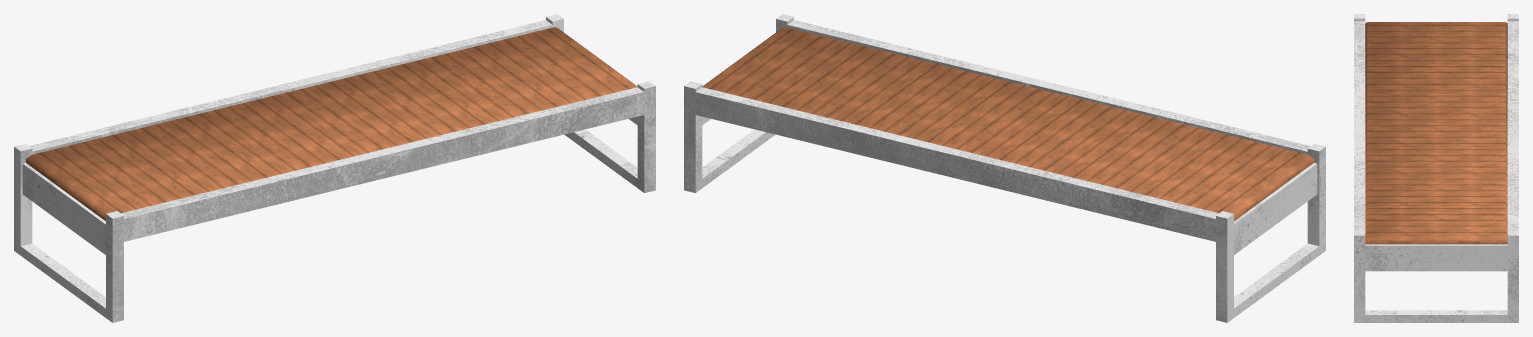
The model's file is Cheap Bench.fbx.
3 views of the same model, side by side, from view 1: azimuth 30°, elevation 25°; view 2: azimuth 150°, elevation 25°; view 3: azimuth 270°, elevation 25° (orthographic). The views are drawn at different scales.
Parts seen in each view (by area): view 1: Cheap Bench; view 2: Cheap Bench; view 3: Cheap Bench.
Boxes of the visible parts, box(x1,y1,x2,y2) form: Cheap Bench: box(14, 14, 655, 322); Cheap Bench: box(684, 14, 1325, 322); Cheap Bench: box(1354, 14, 1518, 322).
Size of the model in its own units: 159 by 29.11 by 49.86.
